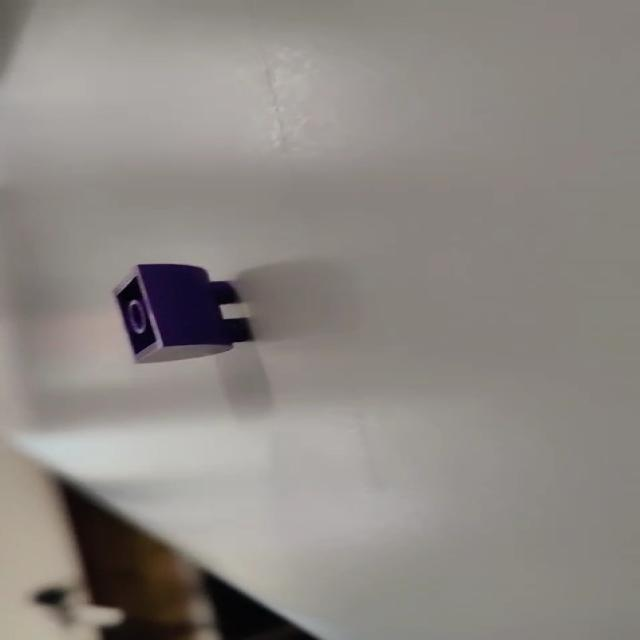H2x2x1: (109, 262, 258, 366)
